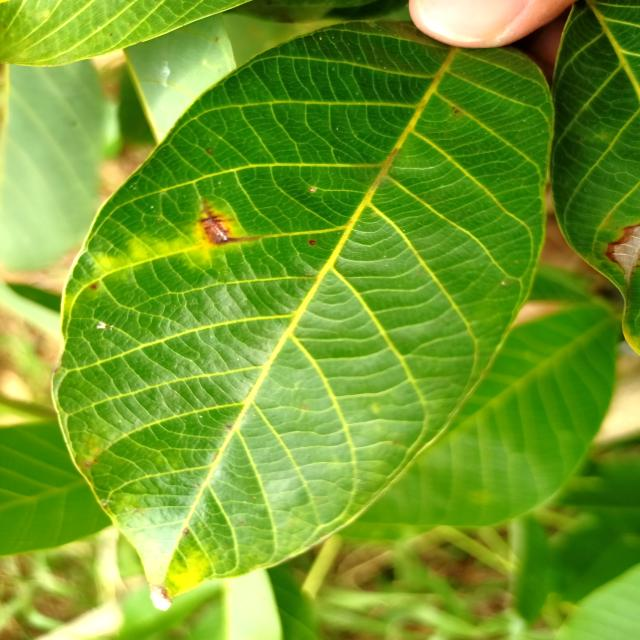Colletotrichum: (309, 240, 316, 245)
Corynespora: (199, 200, 260, 245), (612, 225, 640, 284)
